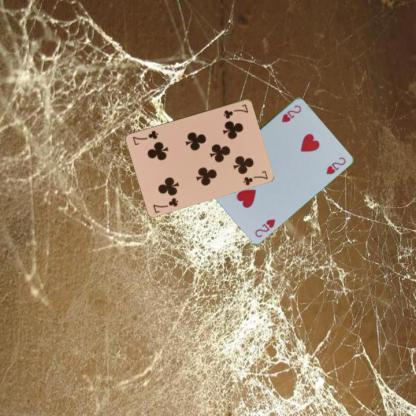2h: (252, 216, 277, 238), (279, 102, 303, 124)
7c: (220, 101, 250, 120), (150, 195, 180, 214)
